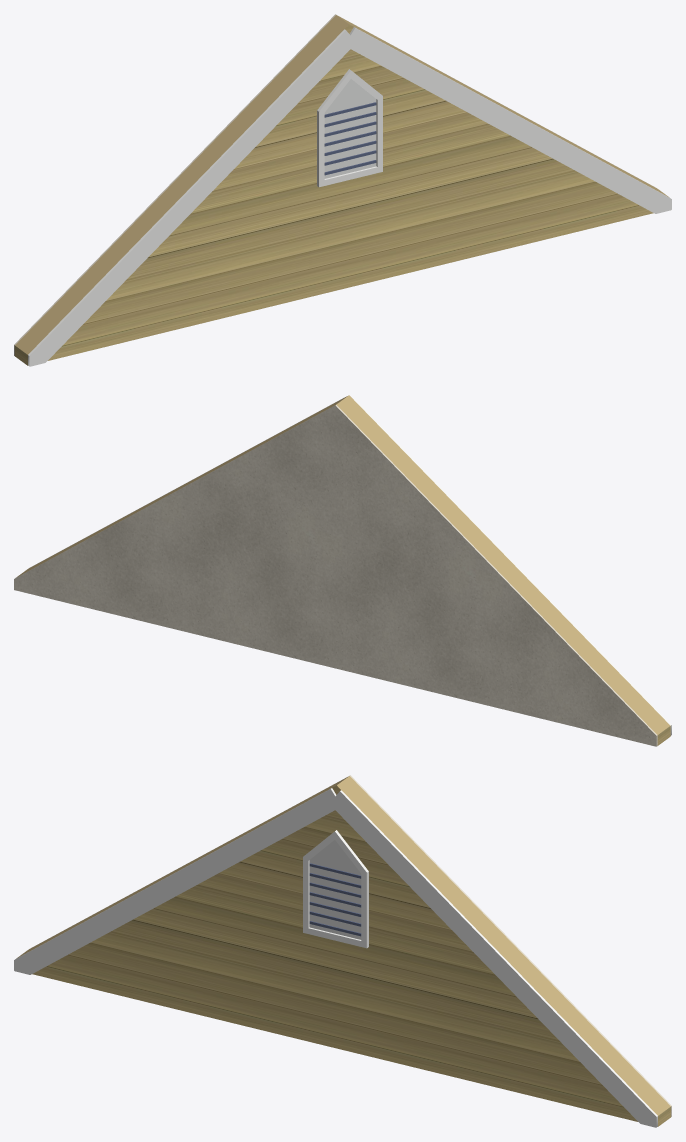
File: gable_cross.glb
3 renders of one model, top to bottom at view 1: azimuth 30°, elevation 25°; view 2: azimuth 150°, elevation 25°; view 3: azimuth 330°, elevation 25°, orthographic.
Parts seen in each view (by area): view 1: gable_cross_siding, gable_cross_trim, gable_cross_vent, gable_cross_shutter_dark, gable_cross_plaster; view 2: gable_cross_plaster, gable_cross_siding, gable_cross_trim; view 3: gable_cross_siding, gable_cross_trim, gable_cross_vent, gable_cross_shutter_dark, gable_cross_plaster.
Boxes of the visible parts, x1,y1,x2,y2 form: gable_cross_siding: [15, 15, 669, 365]; gable_cross_trim: [28, 27, 671, 366]; gable_cross_vent: [324, 79, 376, 178]; gable_cross_shutter_dark: [324, 102, 376, 175]; gable_cross_plaster: [14, 14, 653, 355]; gable_cross_plaster: [14, 405, 657, 746]; gable_cross_siding: [16, 395, 670, 745]; gable_cross_trim: [29, 397, 671, 735]; gable_cross_siding: [16, 776, 670, 1126]; gable_cross_trim: [14, 788, 657, 1127]; gable_cross_vent: [309, 840, 361, 939]; gable_cross_shutter_dark: [309, 863, 361, 936]; gable_cross_plaster: [32, 775, 671, 1116].
Size of the model in its own units: 8 by 3.13 by 0.34.
5 materials, 2 textured.
